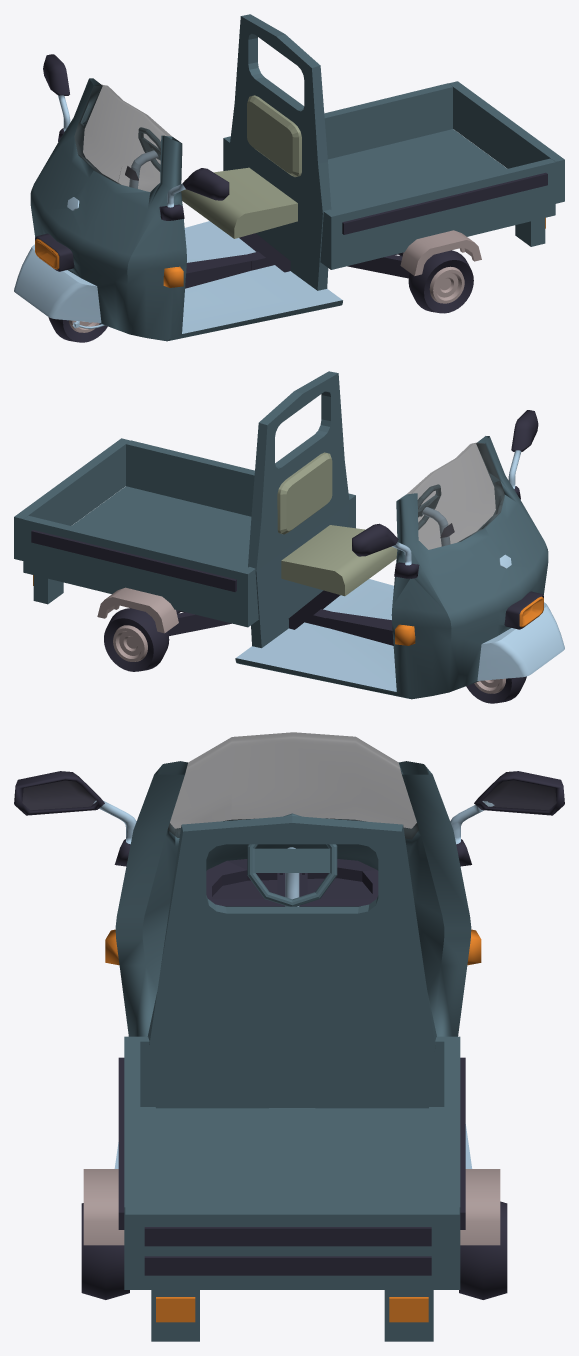
Rendered from RikshaKart.fbx.
The picture shows the model from 3 angles, top to bottom: view 1: azimuth 30°, elevation 25°; view 2: azimuth 150°, elevation 25°; view 3: azimuth 270°, elevation 25°; orthographic projection. The views are drawn at different scales.
Visible parts, largest first — view 1: Body1, Rear_Wheel_L, Front_Wheel, Sterring; view 2: Body1, Rear_Wheel_R, Front_Wheel, Sterring; view 3: Body1, Sterring, Rear_Wheel_R, Rear_Wheel_L.
Part boxes in pixels (box(x1,y1,x2,y2)): Body1: box(14, 14, 564, 341); Rear_Wheel_L: box(408, 250, 473, 313); Front_Wheel: box(48, 317, 107, 342); Sterring: box(138, 127, 160, 171); Body1: box(14, 371, 564, 699); Rear_Wheel_R: box(104, 608, 169, 671); Front_Wheel: box(466, 676, 526, 703); Sterring: box(417, 484, 441, 529); Body1: box(14, 732, 564, 1341); Sterring: box(247, 813, 337, 906); Rear_Wheel_R: box(459, 1201, 507, 1299); Rear_Wheel_L: box(81, 1203, 129, 1299).
Bounding box in the file's own units: 348 × 178 × 221.
